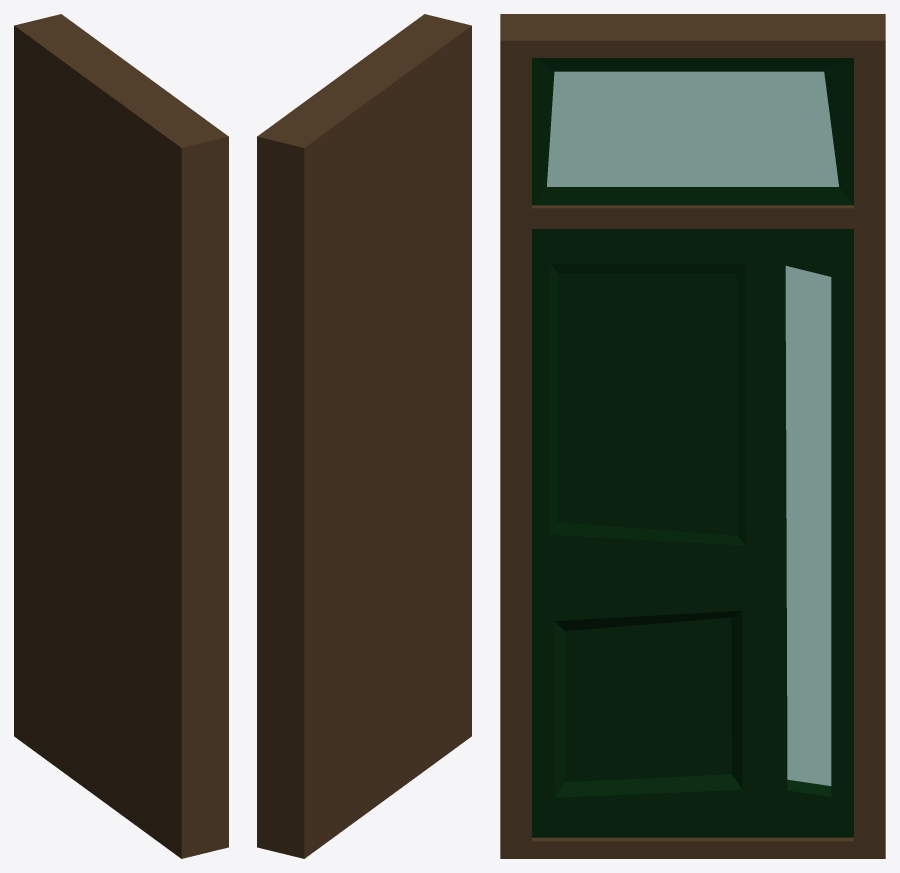
The model's file is Door19.fbx.
3 renders of one model, left to right at view 1: azimuth 30°, elevation 25°; view 2: azimuth 150°, elevation 25°; view 3: azimuth 270°, elevation 25°, orthographic. The views are drawn at different scales.
Visible parts, largest first — view 1: Cube.040; view 2: Cube.040; view 3: Cube.040.
Boxes of the visible parts, box(x1,y1,x2,y2) form: Cube.040: box(14, 14, 228, 858); Cube.040: box(257, 14, 471, 858); Cube.040: box(500, 14, 885, 858).
Size of the model in its own units: 18.61 by 268 by 114.
